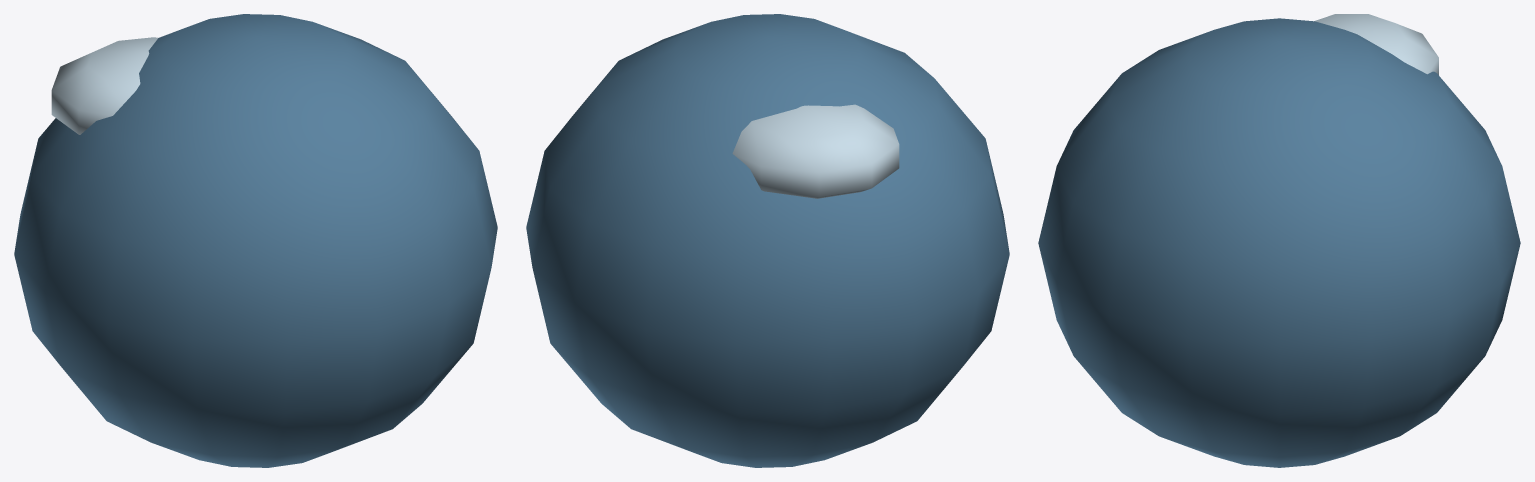
The model's file is newshd-228-f4.glb.
The picture shows the model from 3 angles, left to right: view 1: azimuth 30°, elevation 25°; view 2: azimuth 150°, elevation 25°; view 3: azimuth 270°, elevation 25°; orthographic projection.
Parts seen in each view (by area): view 1: newshd-228-f4; view 2: newshd-228-f4; view 3: newshd-228-f4.
Part boxes in pixels (x1,y1,x2,y2): newshd-228-f4: (14, 14, 497, 467); newshd-228-f4: (526, 14, 1009, 467); newshd-228-f4: (1038, 14, 1520, 467).
Size of the model in its own units: 0.4 by 0.368 by 0.4.
